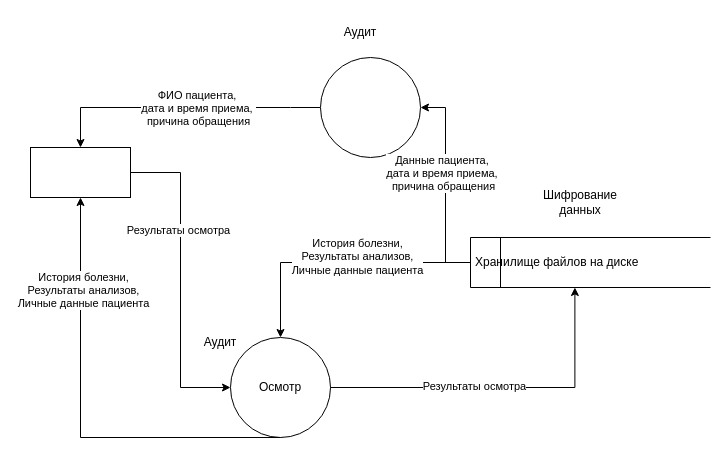
Some shapes in this 728 by 463 pixel diagram are drawn without their labels. The shapes that lost their labels are listed below. From the top down, each one's centre as x and y in pixels, then its label:
At (x=370, y=107): "Просмотр записи о приеме".
At (x=80, y=172): "Медик специалист".
